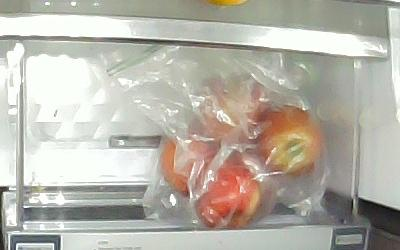apple_vinyl: (254, 105, 327, 181), (197, 72, 273, 139), (195, 160, 266, 231), (161, 125, 223, 197)
